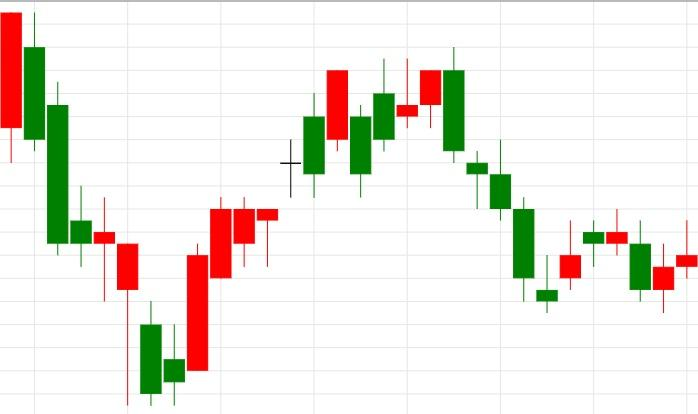bearish_engulfing_fall: (139, 47, 466, 406)
three_black_crows_fall: (139, 48, 511, 406)
